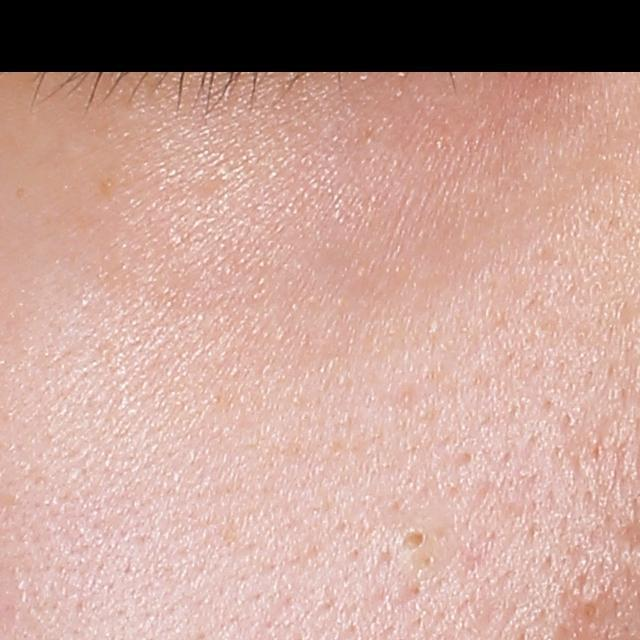comedo: (390, 520, 442, 565), (577, 596, 602, 622)
melasma: (96, 169, 122, 196)
